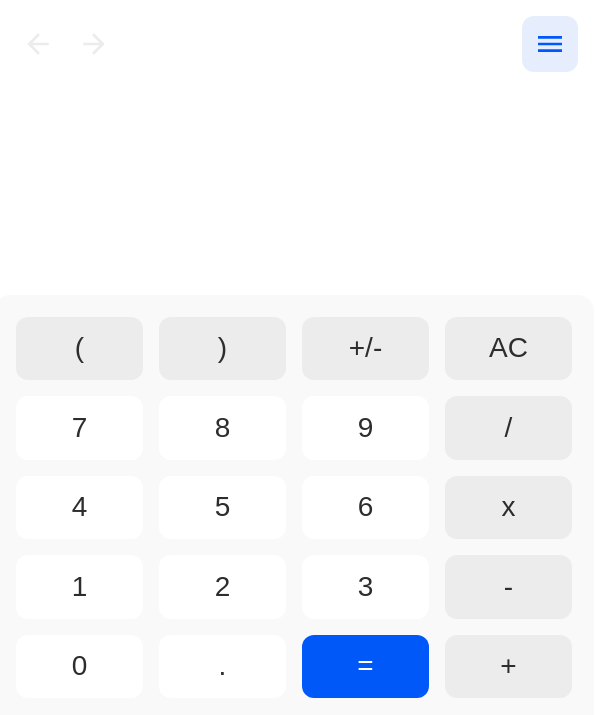
Calculator › simple calculation › 11x11
Click the button with id "key_1".
click(80, 587)  # box [16,555,143,618]
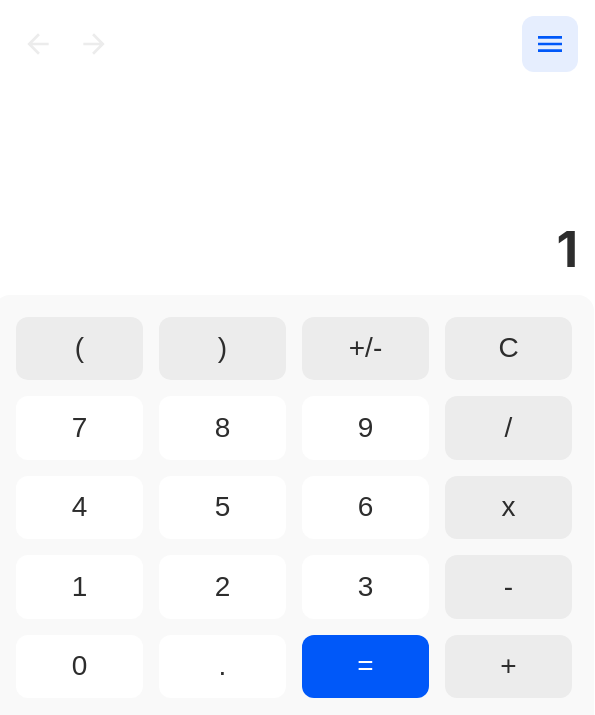
Click the button with id "key_1".
click(80, 587)  # box [16,555,143,618]
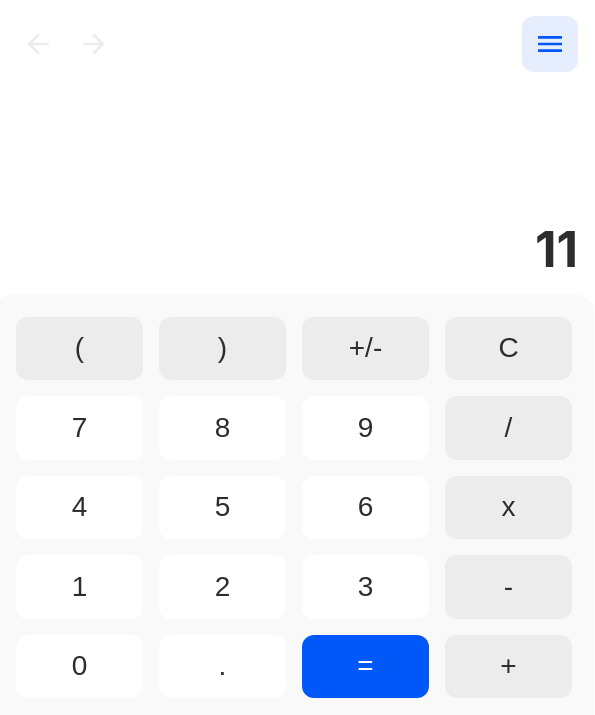
Click the button with id "key_".
click(508, 507)  # box [445,476,572,539]
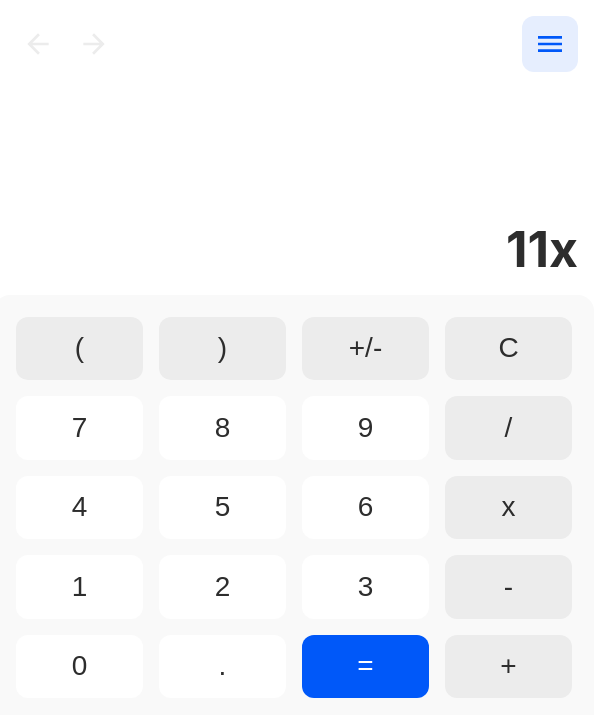
Click the button with id "key_1".
click(80, 587)  # box [16,555,143,618]
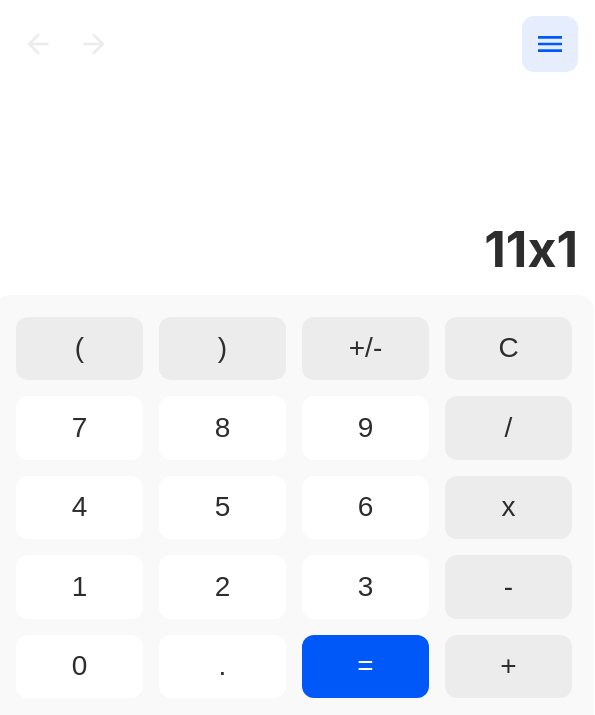
Click the button with id "key_1".
click(80, 587)  # box [16,555,143,618]
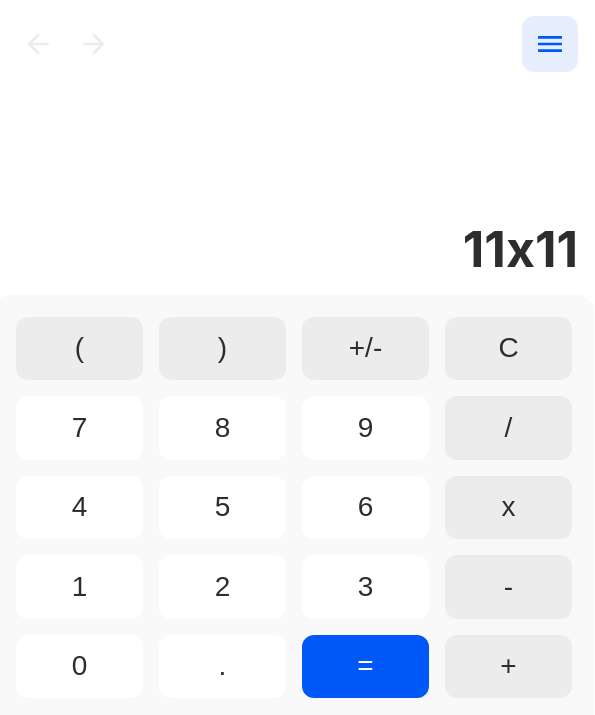
Click the button with id "key_".
click(366, 666)  # box [302,634,429,698]
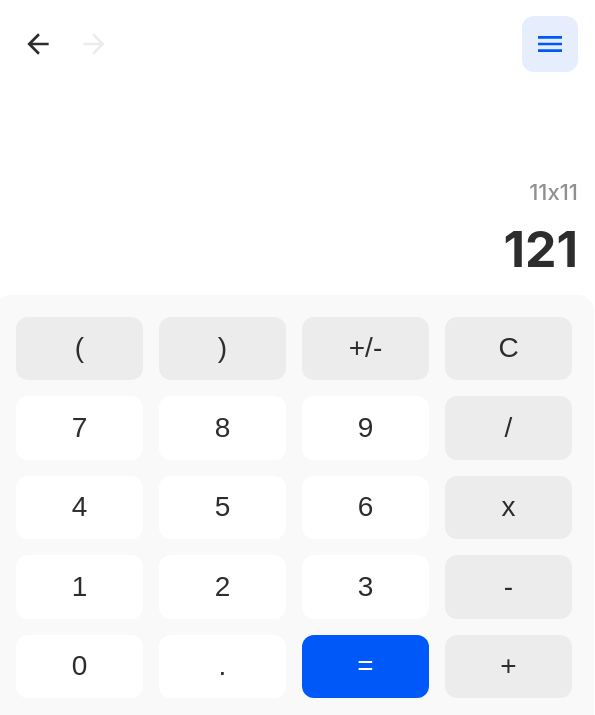
Expected: the text with class "historyLine" reads "11x11", [529,178,578,204]
Expected: the text with class "mainLine" reads "121", [503,218,578,278]
